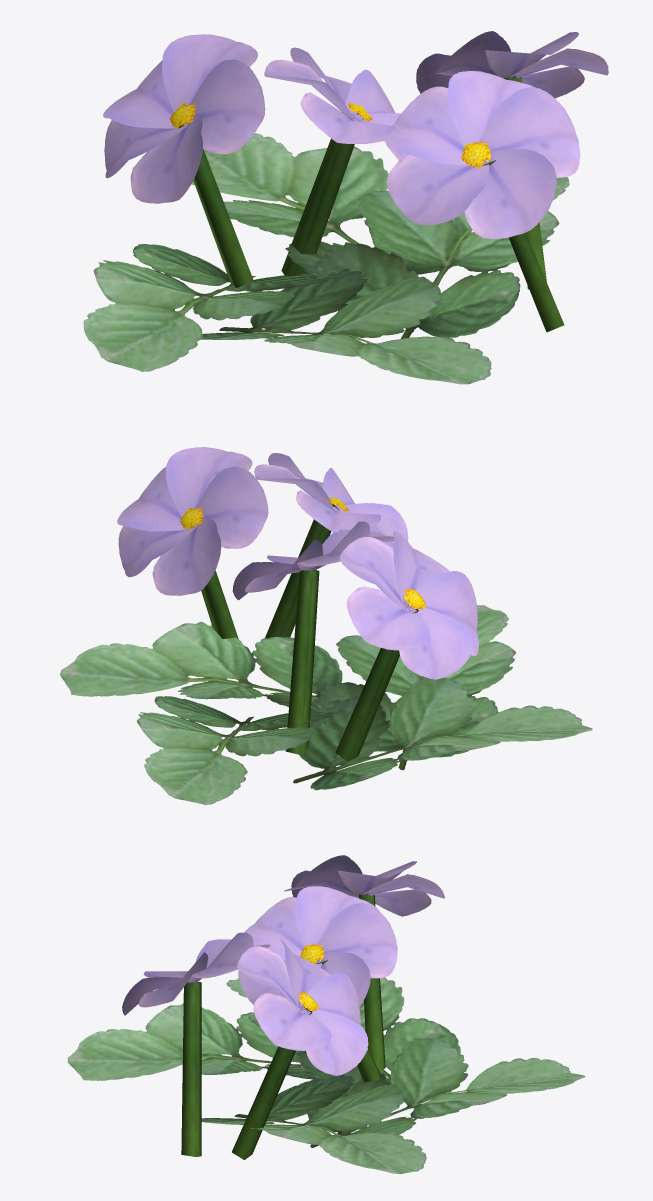
File: indigof3.fbx
3 views of the same model, one above another, from view 1: azimuth 30°, elevation 25°; view 2: azimuth 150°, elevation 25°; view 3: azimuth 270°, elevation 25° (orthographic). The views are drawn at different scales.
Visible parts, largest first — view 1: indigof03; view 2: indigof03; view 3: indigof03.
Part boxes in pixels (x1=…): indigof03: x1=83, y1=31, x2=608, y2=384; indigof03: x1=60, y1=447, x2=592, y2=804; indigof03: x1=67, y1=855, x2=585, y2=1173.
Size of the model in its own units: 34.18 by 13.77 by 33.6.
